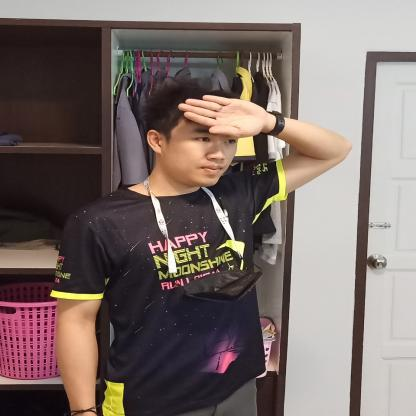Sick: (98, 65, 300, 168)
